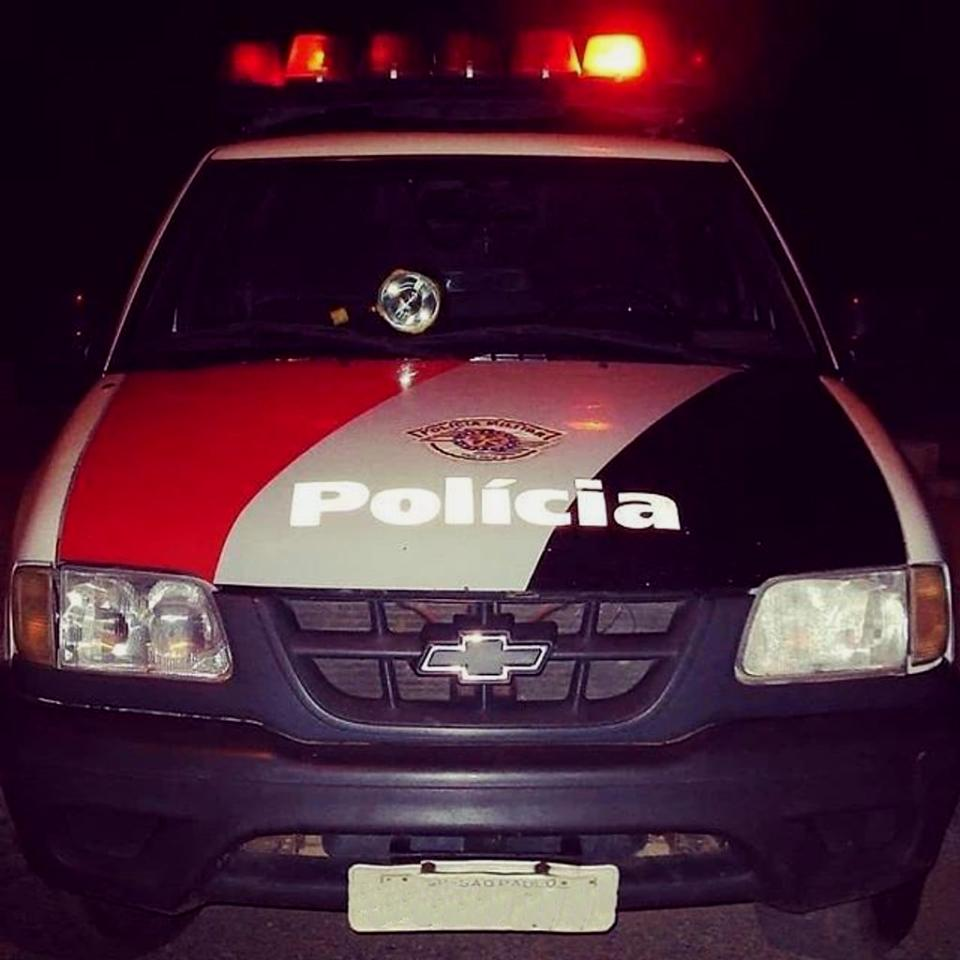viatura: (4, 28, 956, 957)
